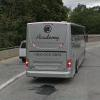Bus: (23, 20, 88, 80)
